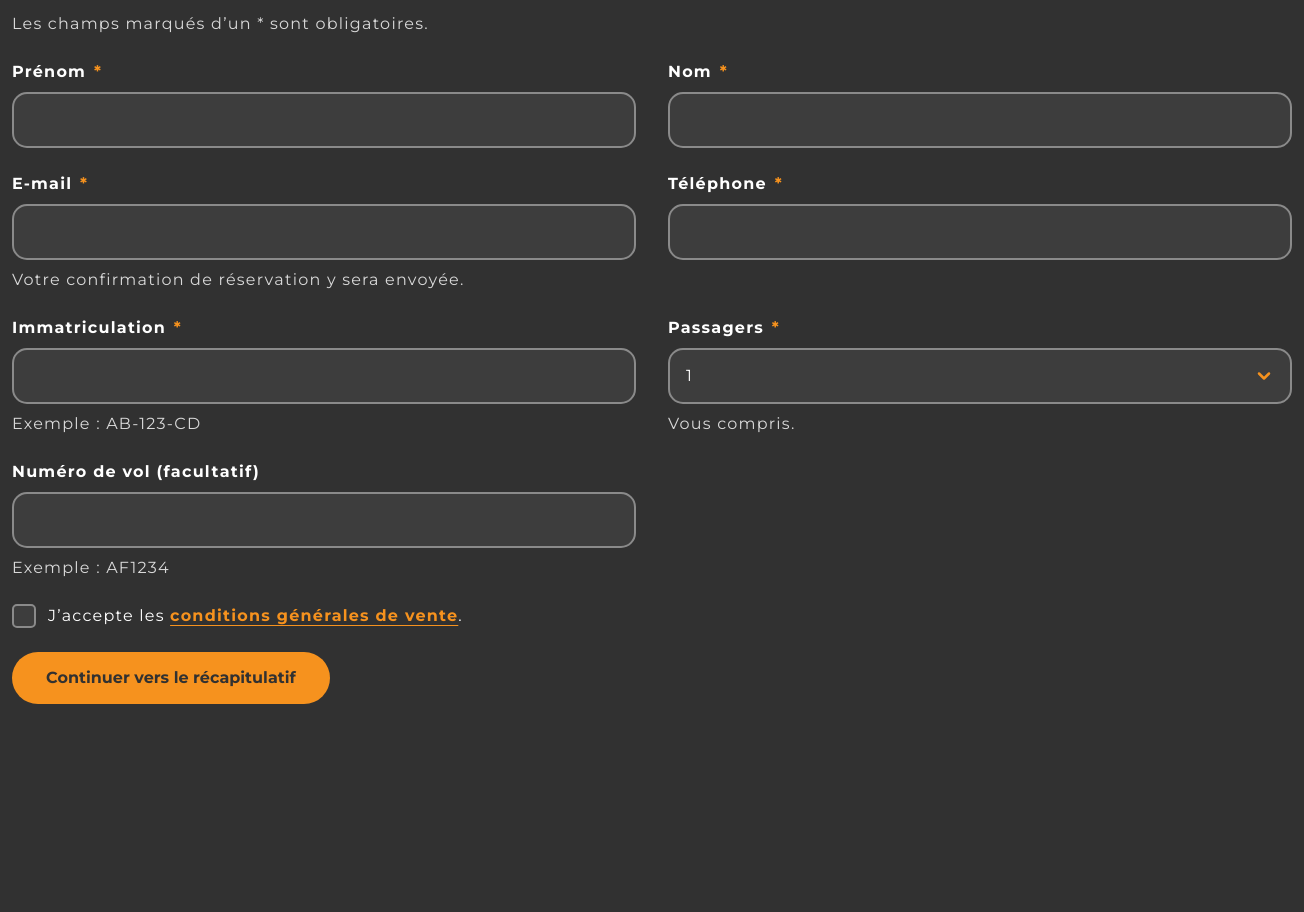
Test: CustomerForm › vérifie un champ quand on le quitte
In the field labelled "E-mail *": (324, 232) [12,204,636,260], type "claire@"
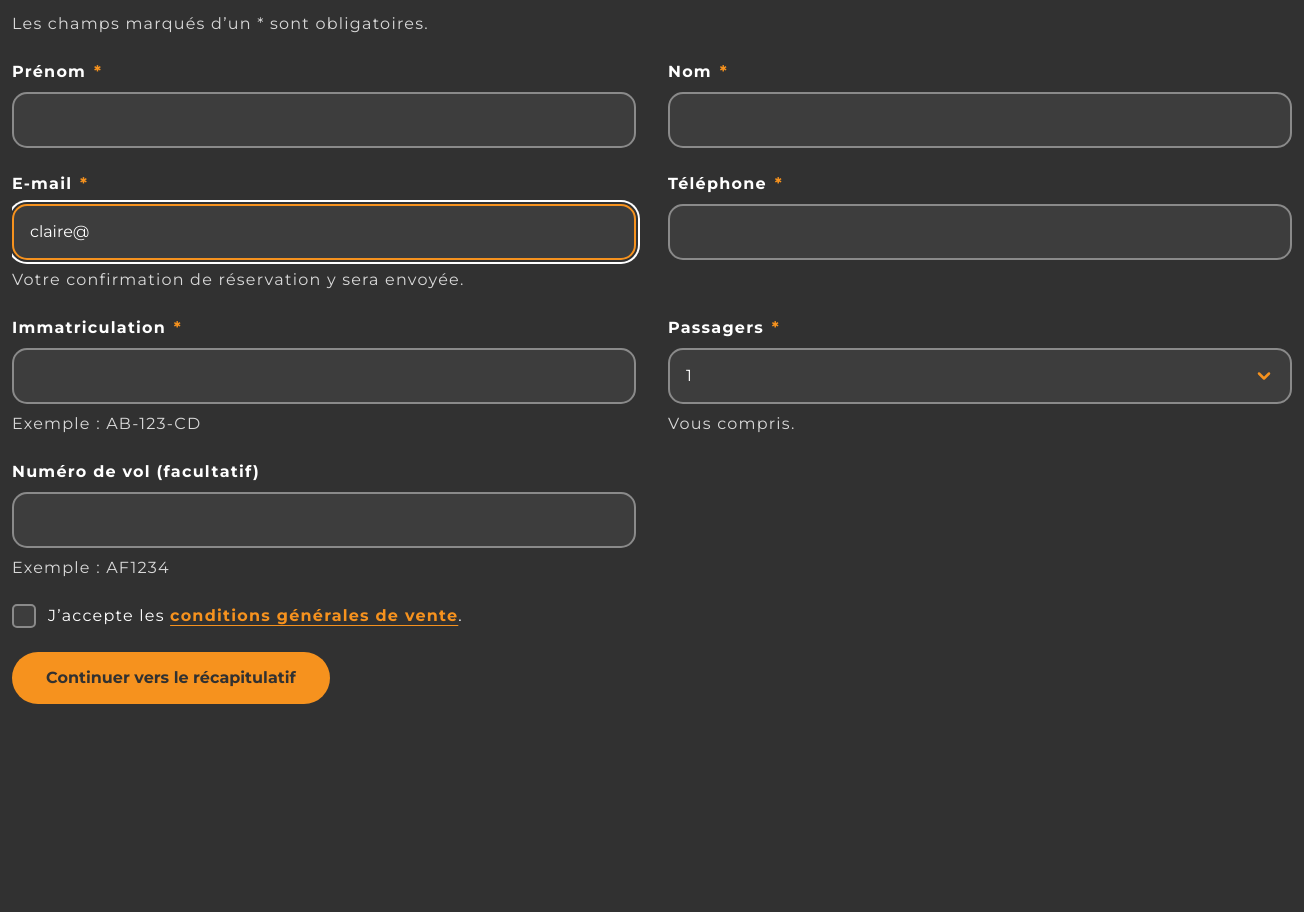
Press Tab
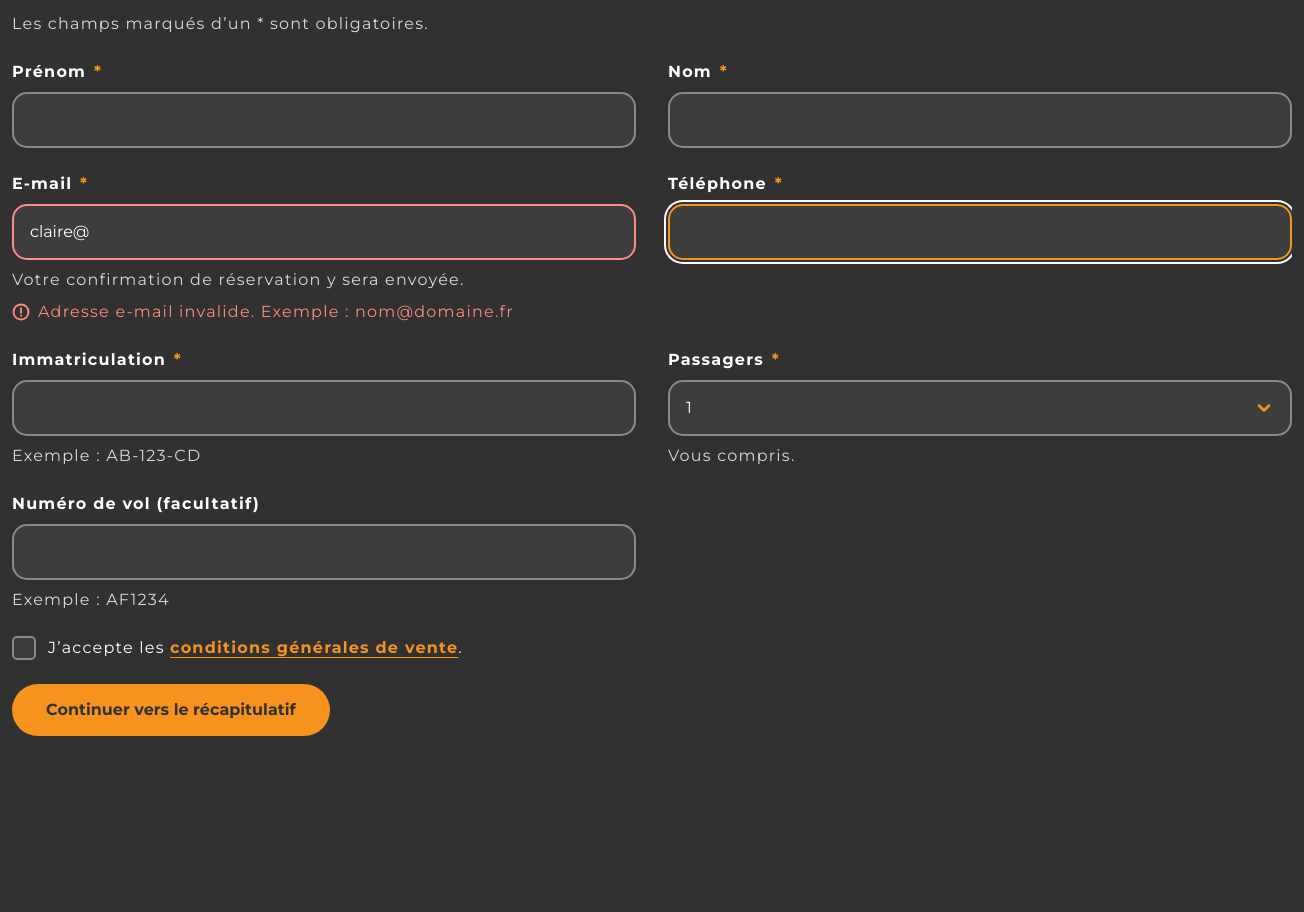
Check: the text "Adresse e-mail invalide. Exemple : nom@domaine.fr" is shown, box [38,300,514,324]
In the field labelled "E-mail *": (324, 232) [12,204,636,260], type "example.fr"
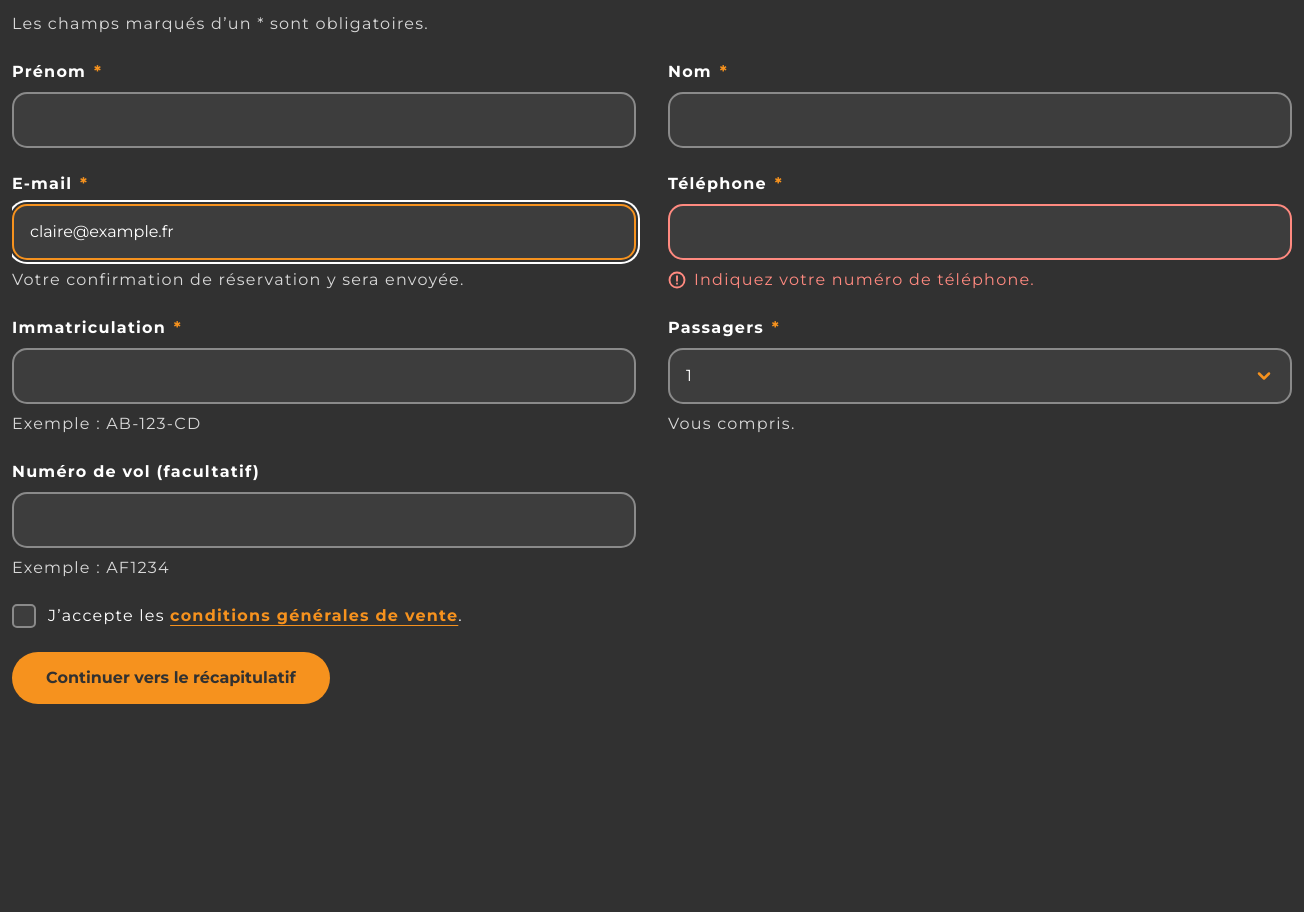
Check: the text "Adresse e-mail invalide" is gone
